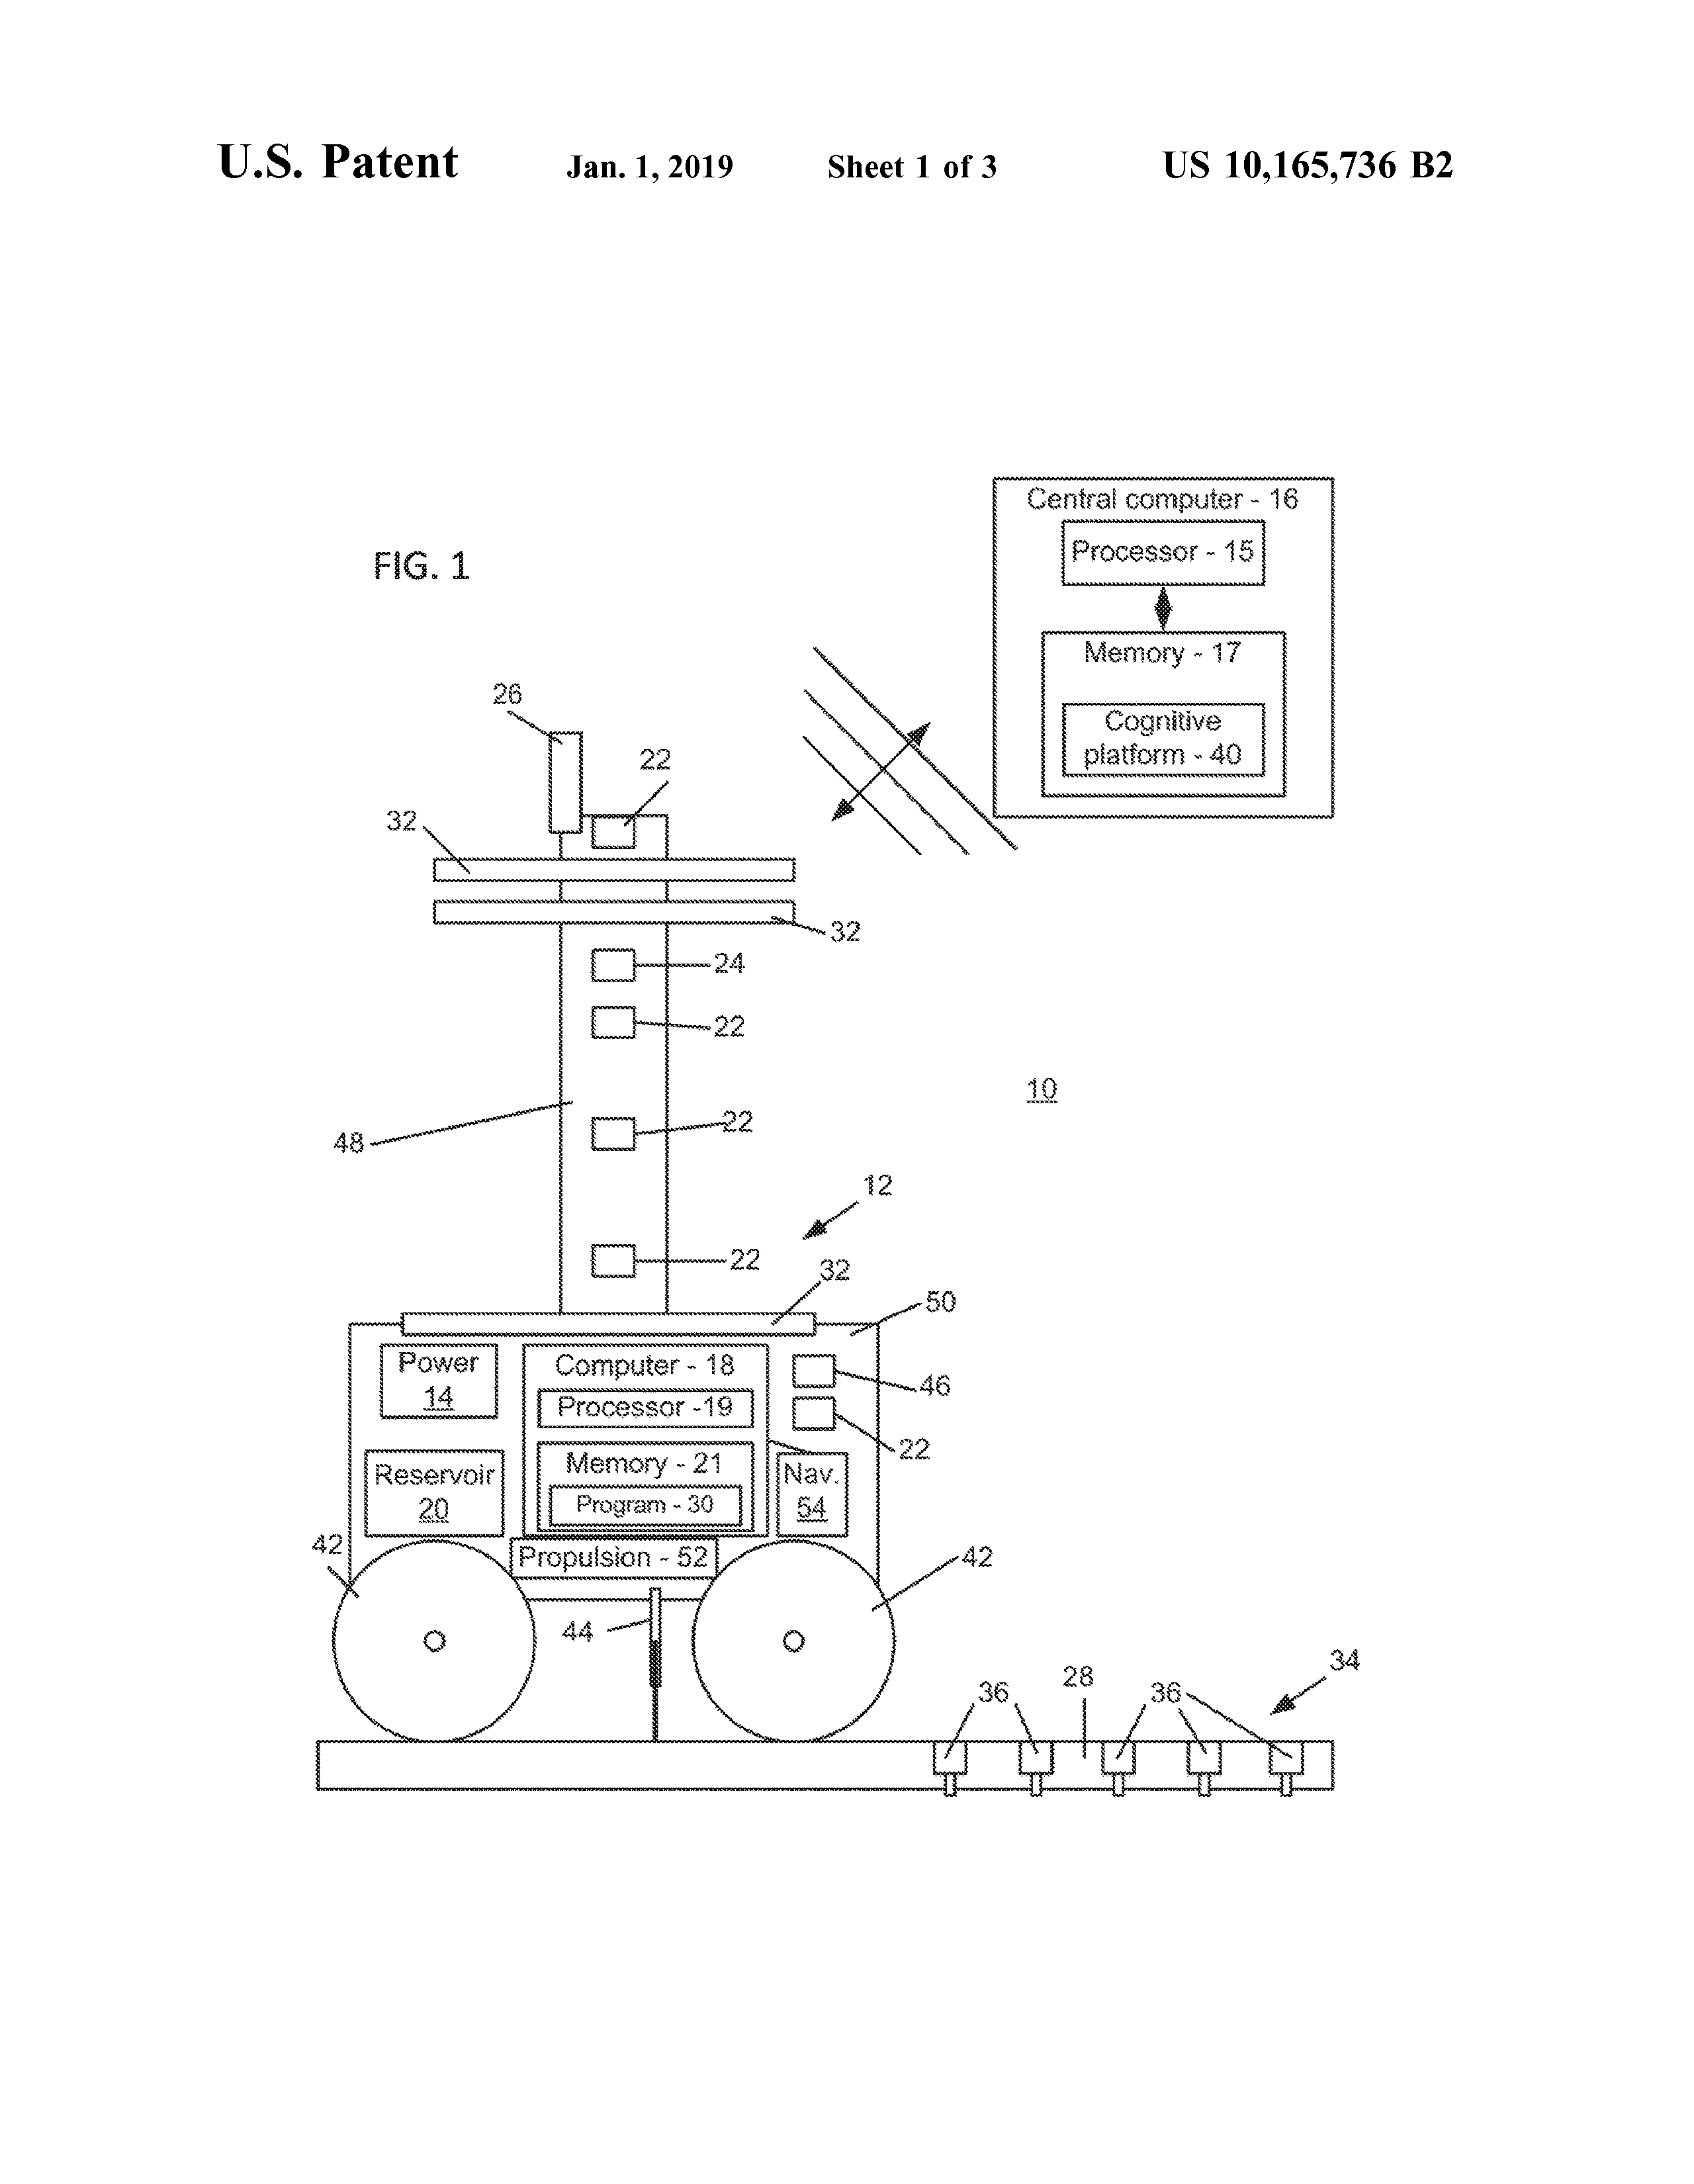patent image: (255, 429, 1441, 1847)
